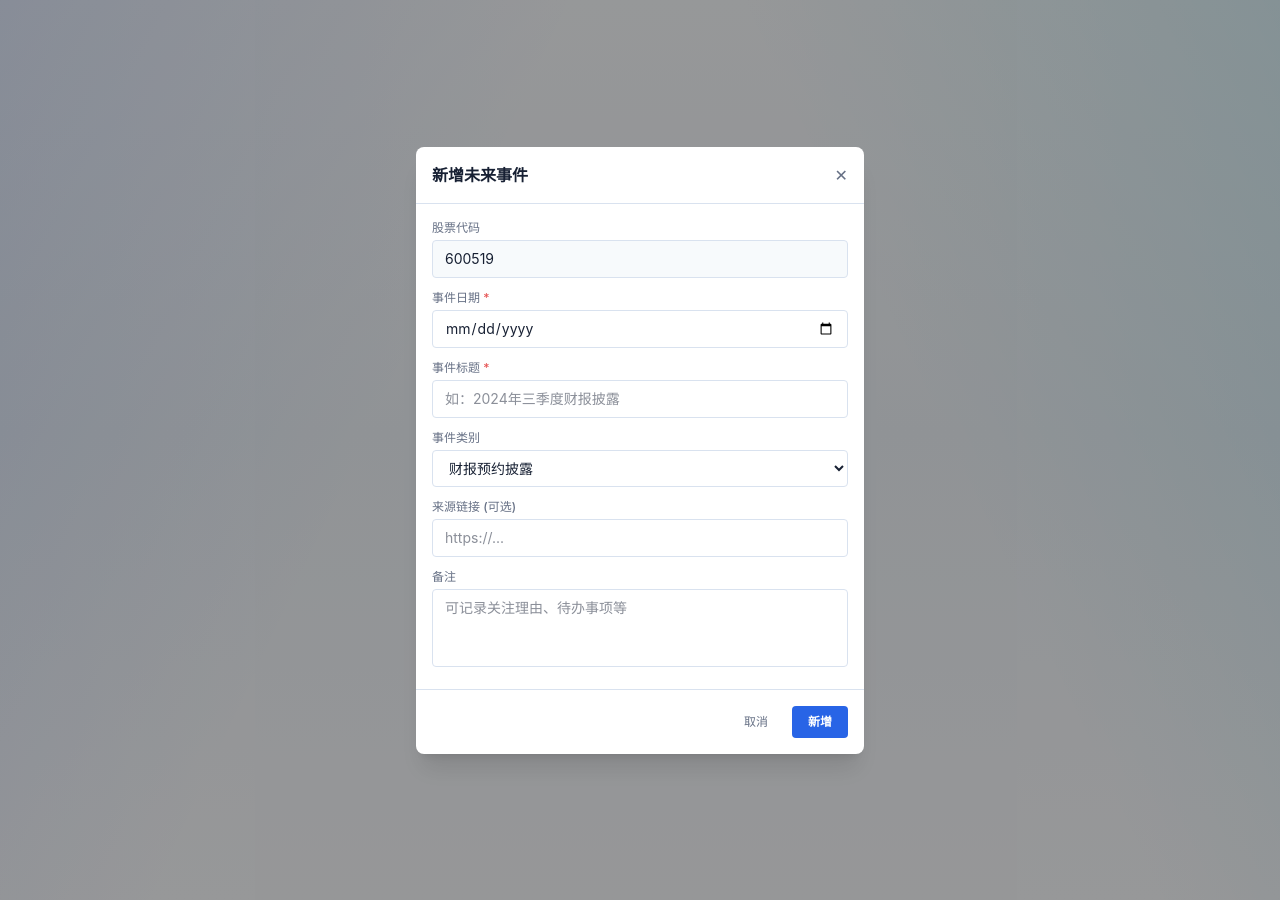
Scenario: 第十六阶段里程碑二：事件表单 › 空标题提交时显示错误
The image size is (1280, 900).
Click the button with test id "stock-event-form-save" at (820, 722), box 792,706 -> 848,738
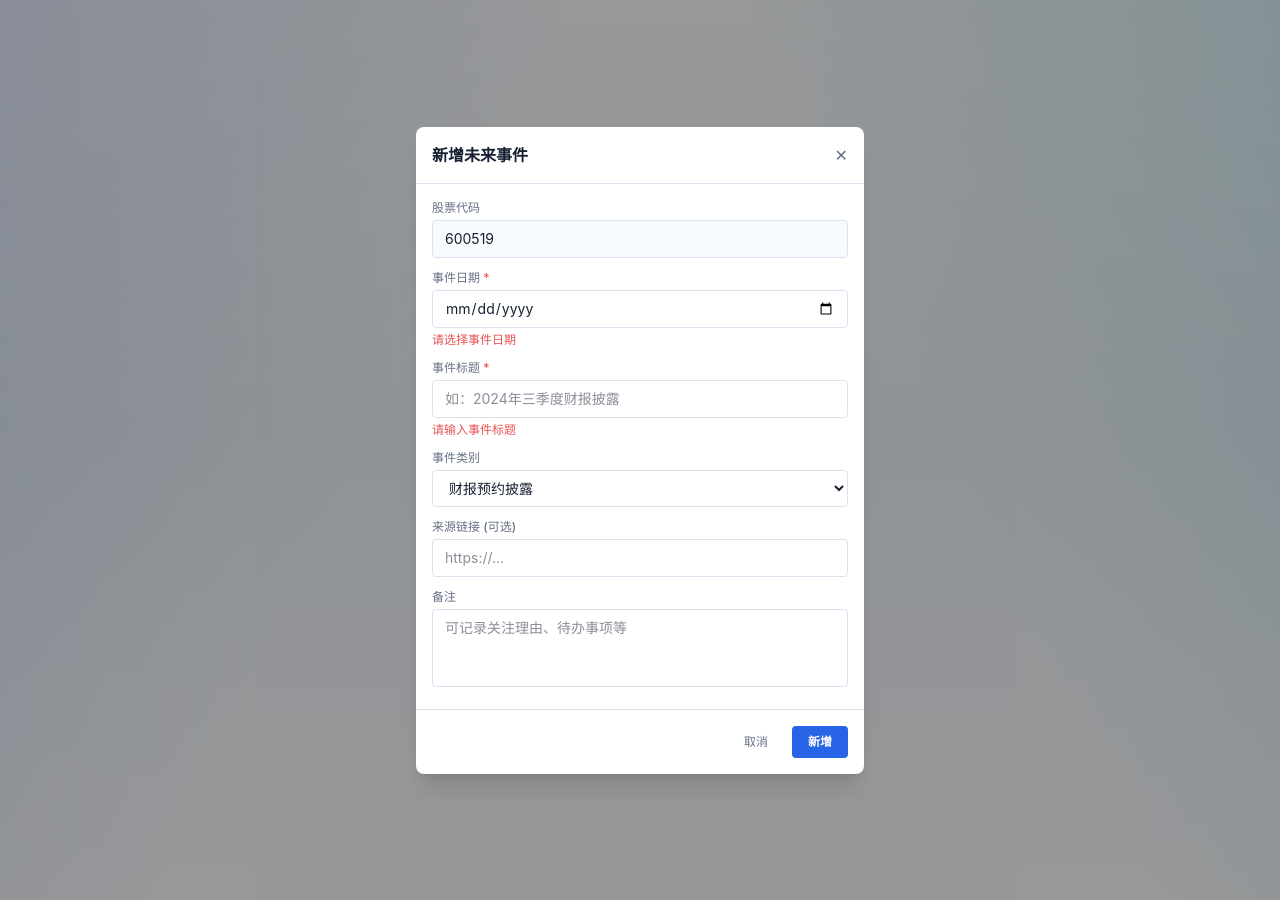
Expected: the text "请输入事件标题" is shown, 432,422 -> 516,436
